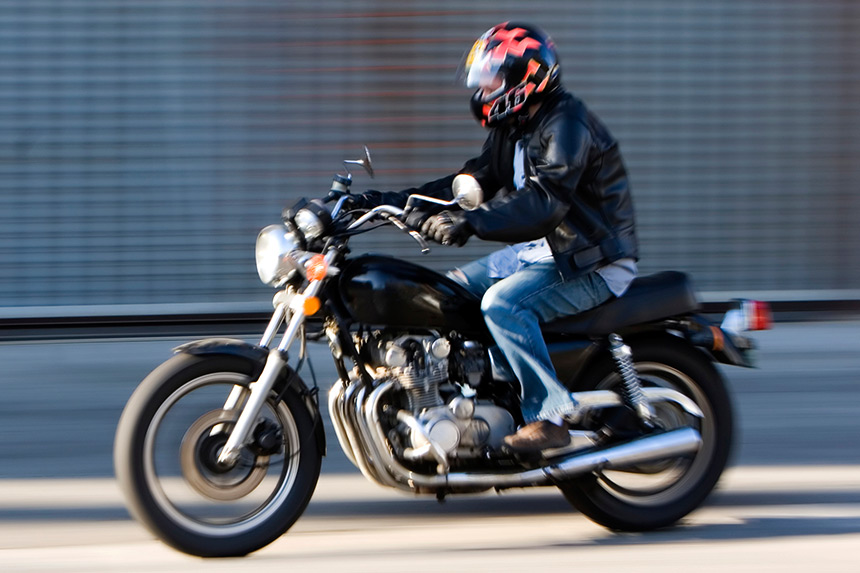motorcycle: (110, 146, 775, 559)
